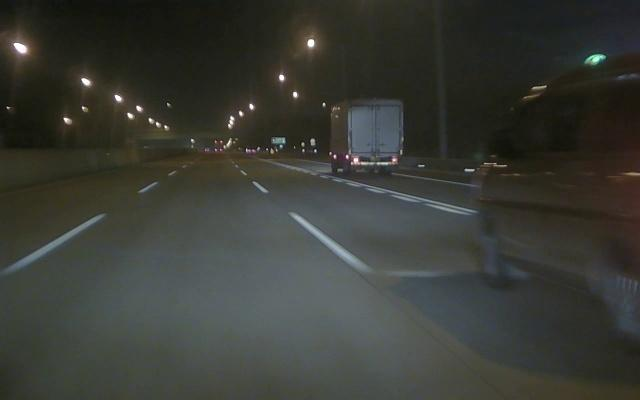lane: (0, 182, 160, 285), (251, 182, 384, 281), (299, 169, 476, 218), (392, 174, 482, 188)
